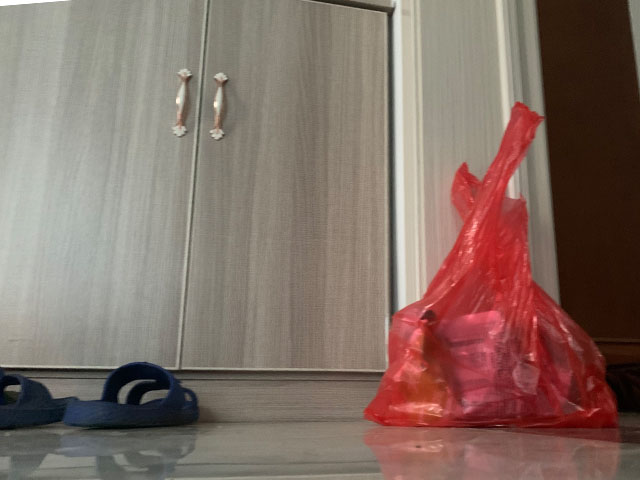cabinet: (1, 1, 401, 427)
slippers: (62, 360, 201, 428), (1, 370, 76, 432)
